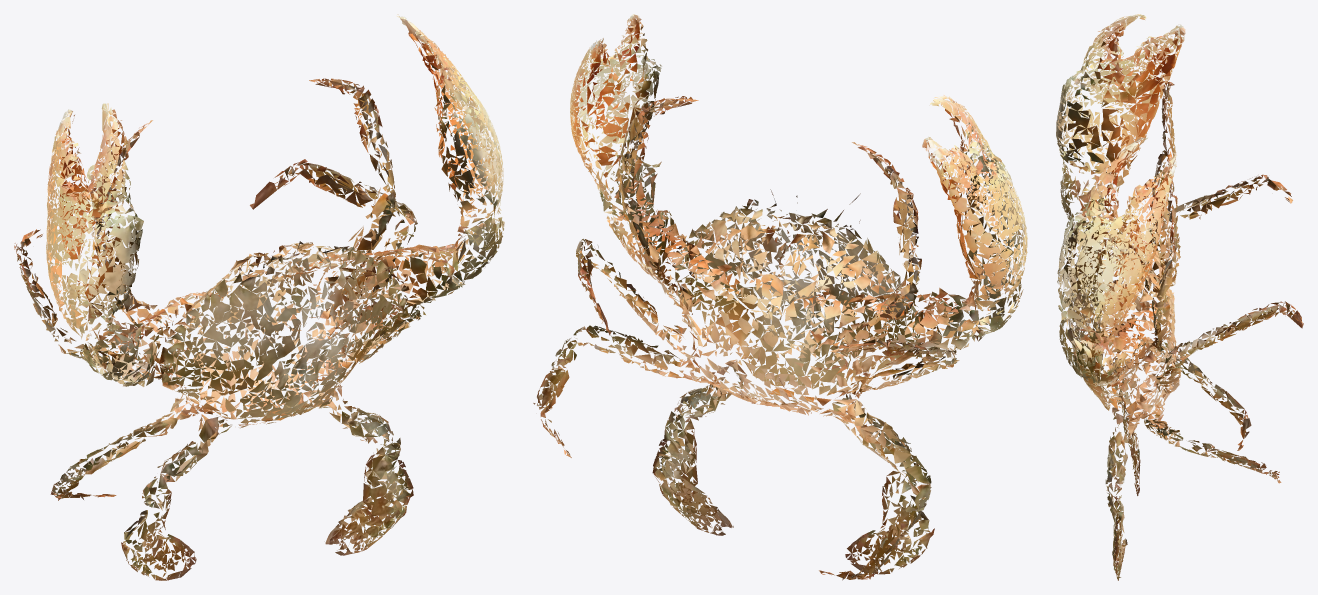
Rendered from mangrove-crab.glb.
3 renders of one model, left to right at view 1: azimuth 30°, elevation 25°; view 2: azimuth 150°, elevation 25°; view 3: azimuth 270°, elevation 25°, orthographic. The views are drawn at different scales.
Parts seen in each view (by area): view 1: mangrove-crab; view 2: mangrove-crab; view 3: mangrove-crab.
Part boxes in pixels (<box>): mangrove-crab: <box>14,14,504,580</box>; mangrove-crab: <box>533,14,1027,580</box>; mangrove-crab: <box>1056,14,1303,580</box>.
Size of the model in its own units: 10.33 by 11.47 by 5.52.
Materials: 1 (1 with a texture image).
